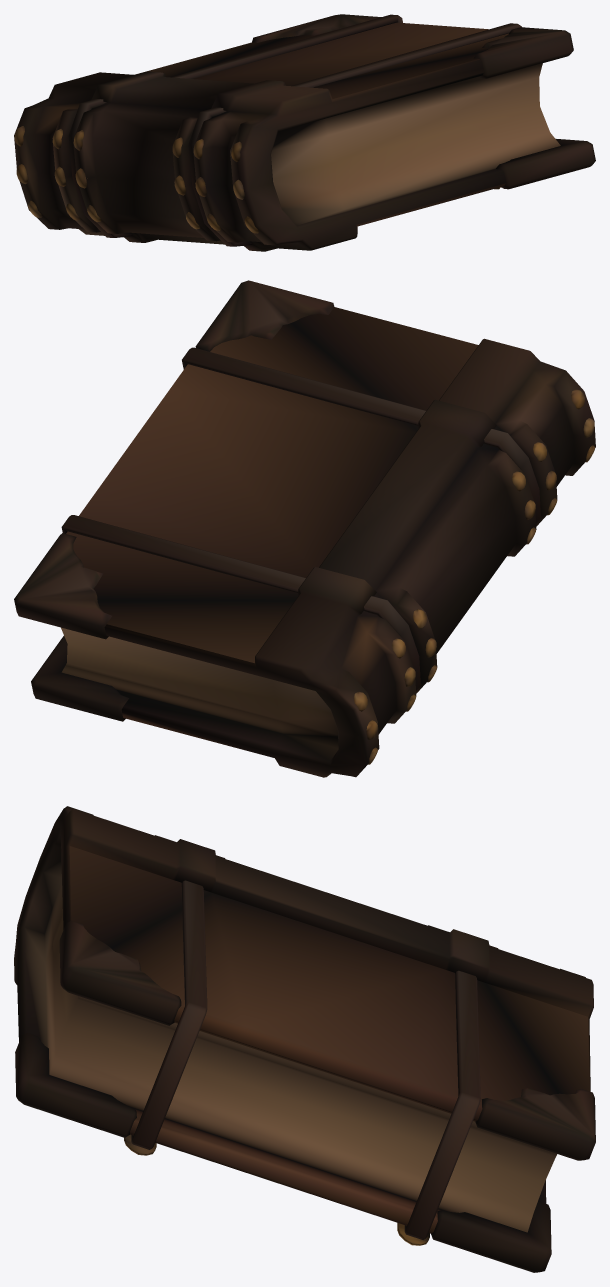
The model's file is necronomicon_custom_vertex_colors.glb.
3 renders of one model, top to bottom at view 1: azimuth 30°, elevation 25°; view 2: azimuth 150°, elevation 25°; view 3: azimuth 270°, elevation 25°, orthographic. The views are drawn at different scales.
Parts seen in each view (by area): view 1: necronomicon_custom_textures; view 2: necronomicon_custom_textures; view 3: necronomicon_custom_textures.
Part boxes in pixels (left/top/right/bottom): necronomicon_custom_textures: left=14, top=14, right=595, bottom=251; necronomicon_custom_textures: left=14, top=280, right=595, bottom=777; necronomicon_custom_textures: left=14, top=806, right=595, bottom=1272.
Bounding box in the file's own units: 16.28 × 12.64 × 20.77.
